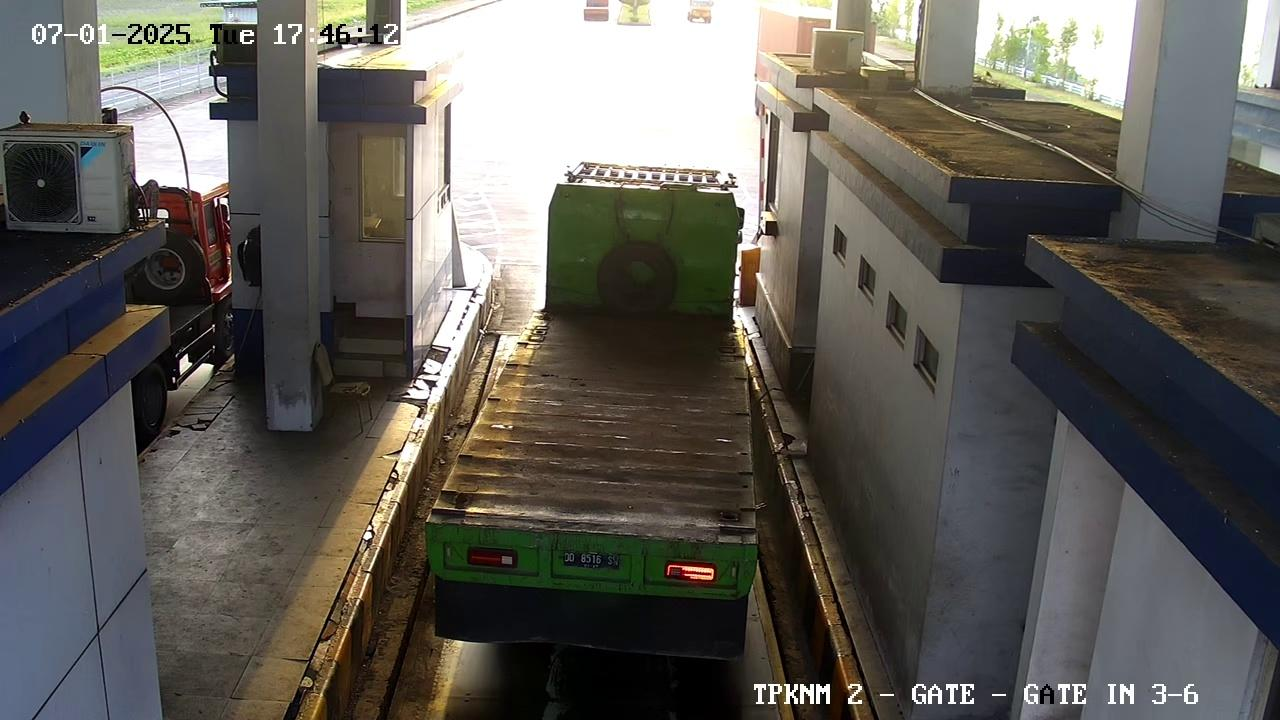plate_number: (556, 545, 626, 578)
